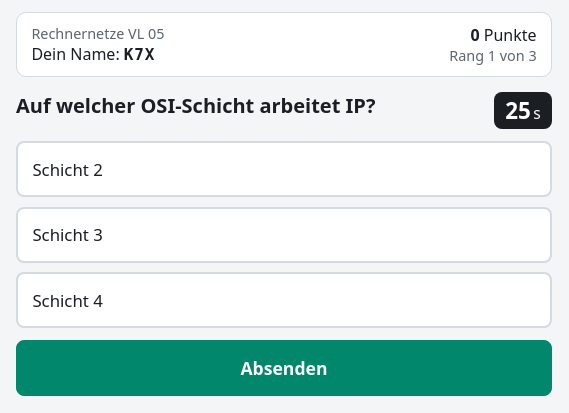
Test: Teilnehmeransicht › /MK240/, /MK245/ zeigt „Antwort gespeichert“ erst nach der Bestätigung des Servers
Click the button "Schicht 3" at point(68, 235), box [16, 207, 552, 263]
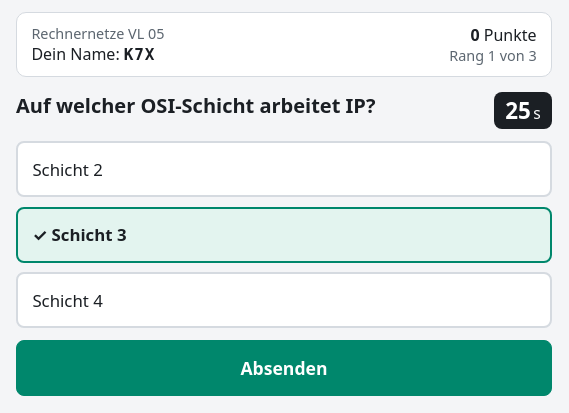
Click the button "Absenden" at point(284, 368), box [16, 340, 552, 396]
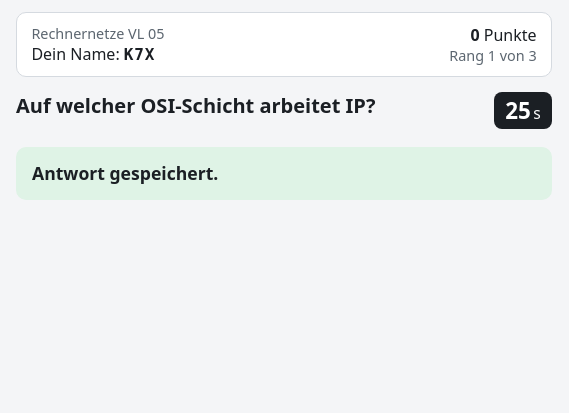
Expected: the text "Antwort gespeichert." is shown, [16, 147, 552, 200]
